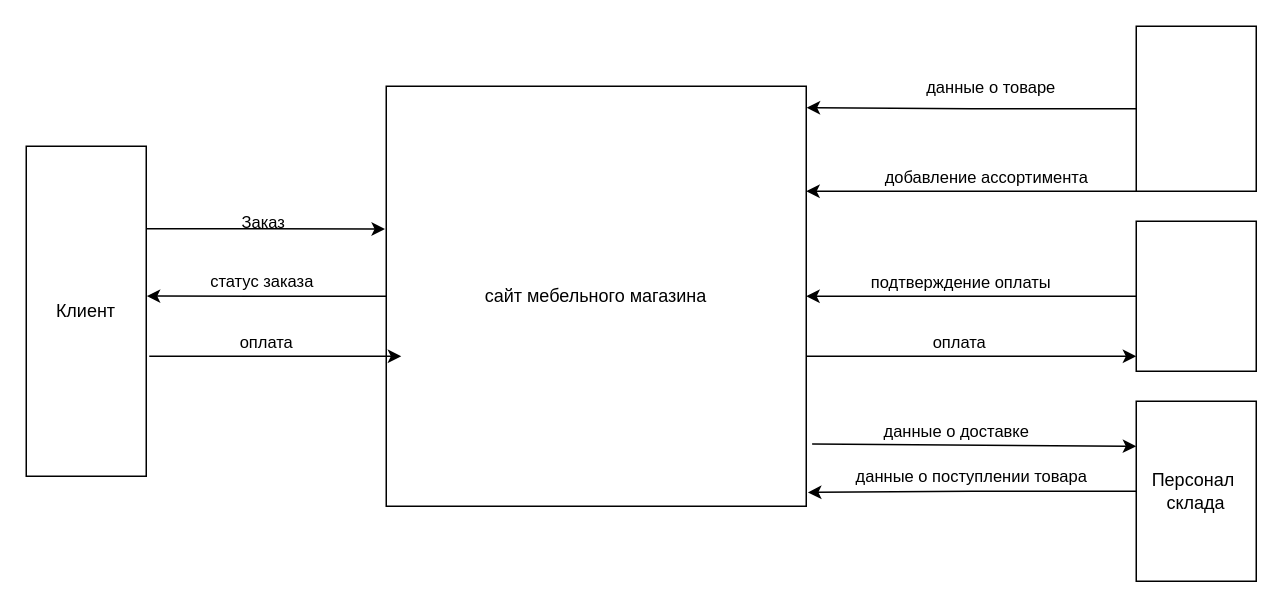
Image size: 1283x608. Some labels were removed from this diagram. Here are the shapes that lost their labels. From the top down, the centre of each, then its label:
At pixel 1195 108: "персонал сайт".
At pixel 1195 295: "платежная система".
